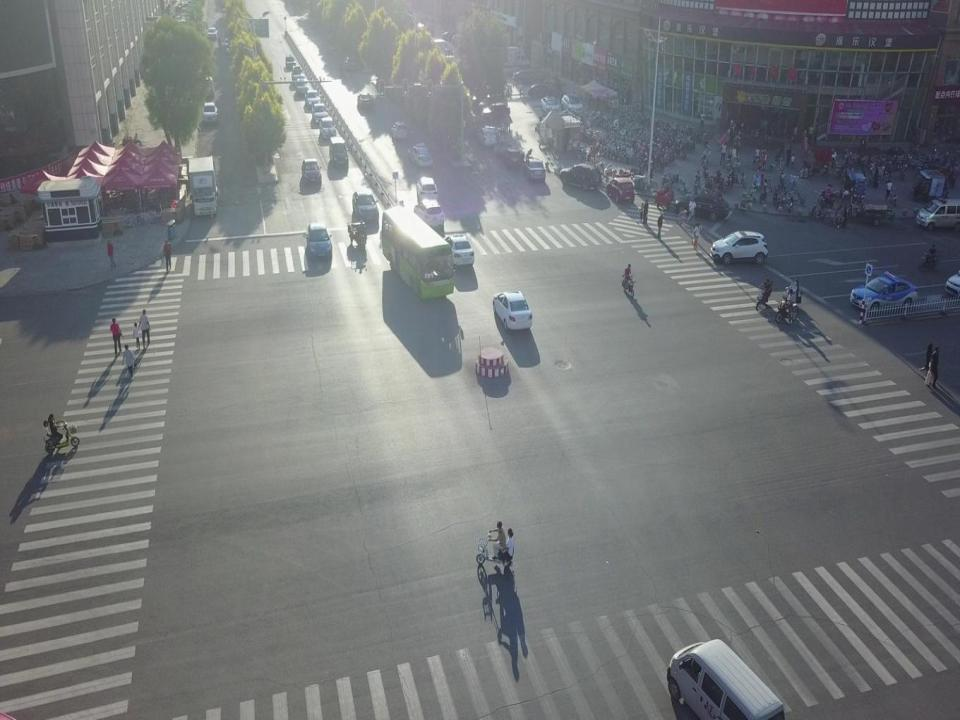bus: (379, 204, 455, 300)
car: (665, 636, 782, 720), (851, 274, 917, 312), (711, 232, 769, 264), (493, 291, 533, 330), (917, 197, 960, 228), (560, 161, 599, 193), (674, 194, 729, 215), (307, 221, 334, 261), (444, 234, 476, 267), (352, 190, 380, 226), (412, 200, 444, 228), (607, 175, 635, 203), (329, 136, 349, 168), (512, 68, 550, 84), (301, 158, 322, 186), (409, 142, 434, 165), (526, 81, 558, 97), (562, 93, 584, 113), (417, 177, 436, 200), (524, 160, 544, 181), (503, 147, 523, 168), (476, 127, 496, 146), (198, 75, 215, 97), (356, 93, 374, 113), (319, 116, 335, 136), (306, 90, 321, 110), (202, 100, 217, 120), (541, 96, 559, 112), (392, 121, 406, 141), (313, 102, 328, 120), (296, 76, 308, 93), (207, 26, 219, 40), (286, 54, 296, 70), (292, 67, 301, 79)
truck: (187, 153, 218, 214), (496, 44, 530, 67)
